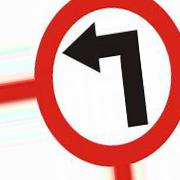left: (35, 2, 180, 167)
